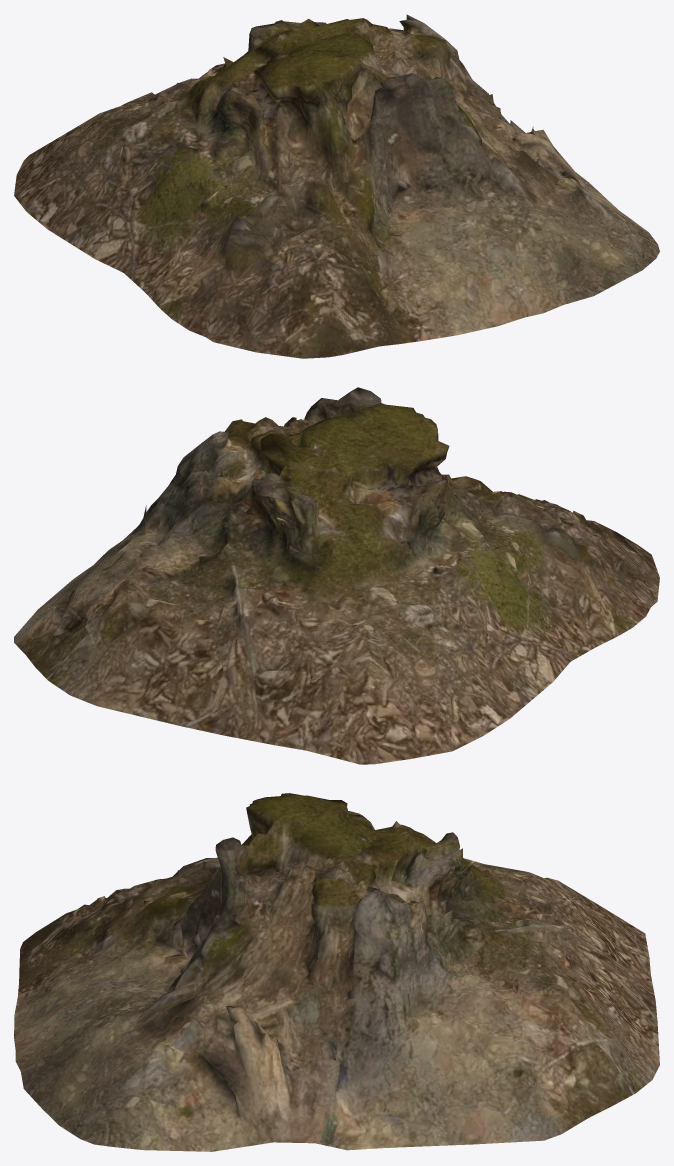
File: tree_stump_01.glb
The picture shows the model from 3 angles, top to bottom: view 1: azimuth 30°, elevation 25°; view 2: azimuth 150°, elevation 25°; view 3: azimuth 270°, elevation 25°; orthographic projection. The views are drawn at different scales.
Parts seen in each view (by area): view 1: tree_stump_01; view 2: tree_stump_01; view 3: tree_stump_01.
Part boxes in pixels (left/top/right/bottom): tree_stump_01: left=14, top=14, right=659, bottom=358; tree_stump_01: left=14, top=387, right=659, bottom=764; tree_stump_01: left=14, top=793, right=659, bottom=1151.
Size of the model in its own units: 1.43 by 0.5709 by 1.59.
1 material, 1 textured.
